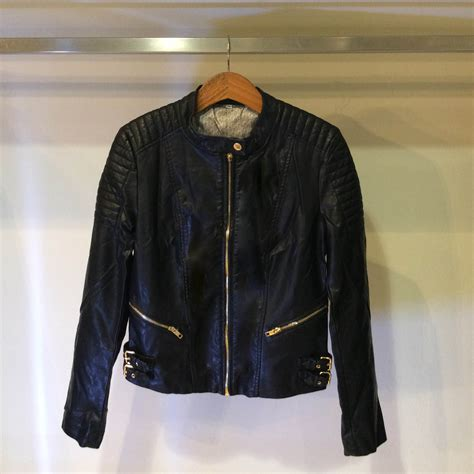cuero: (62, 80, 389, 458)
